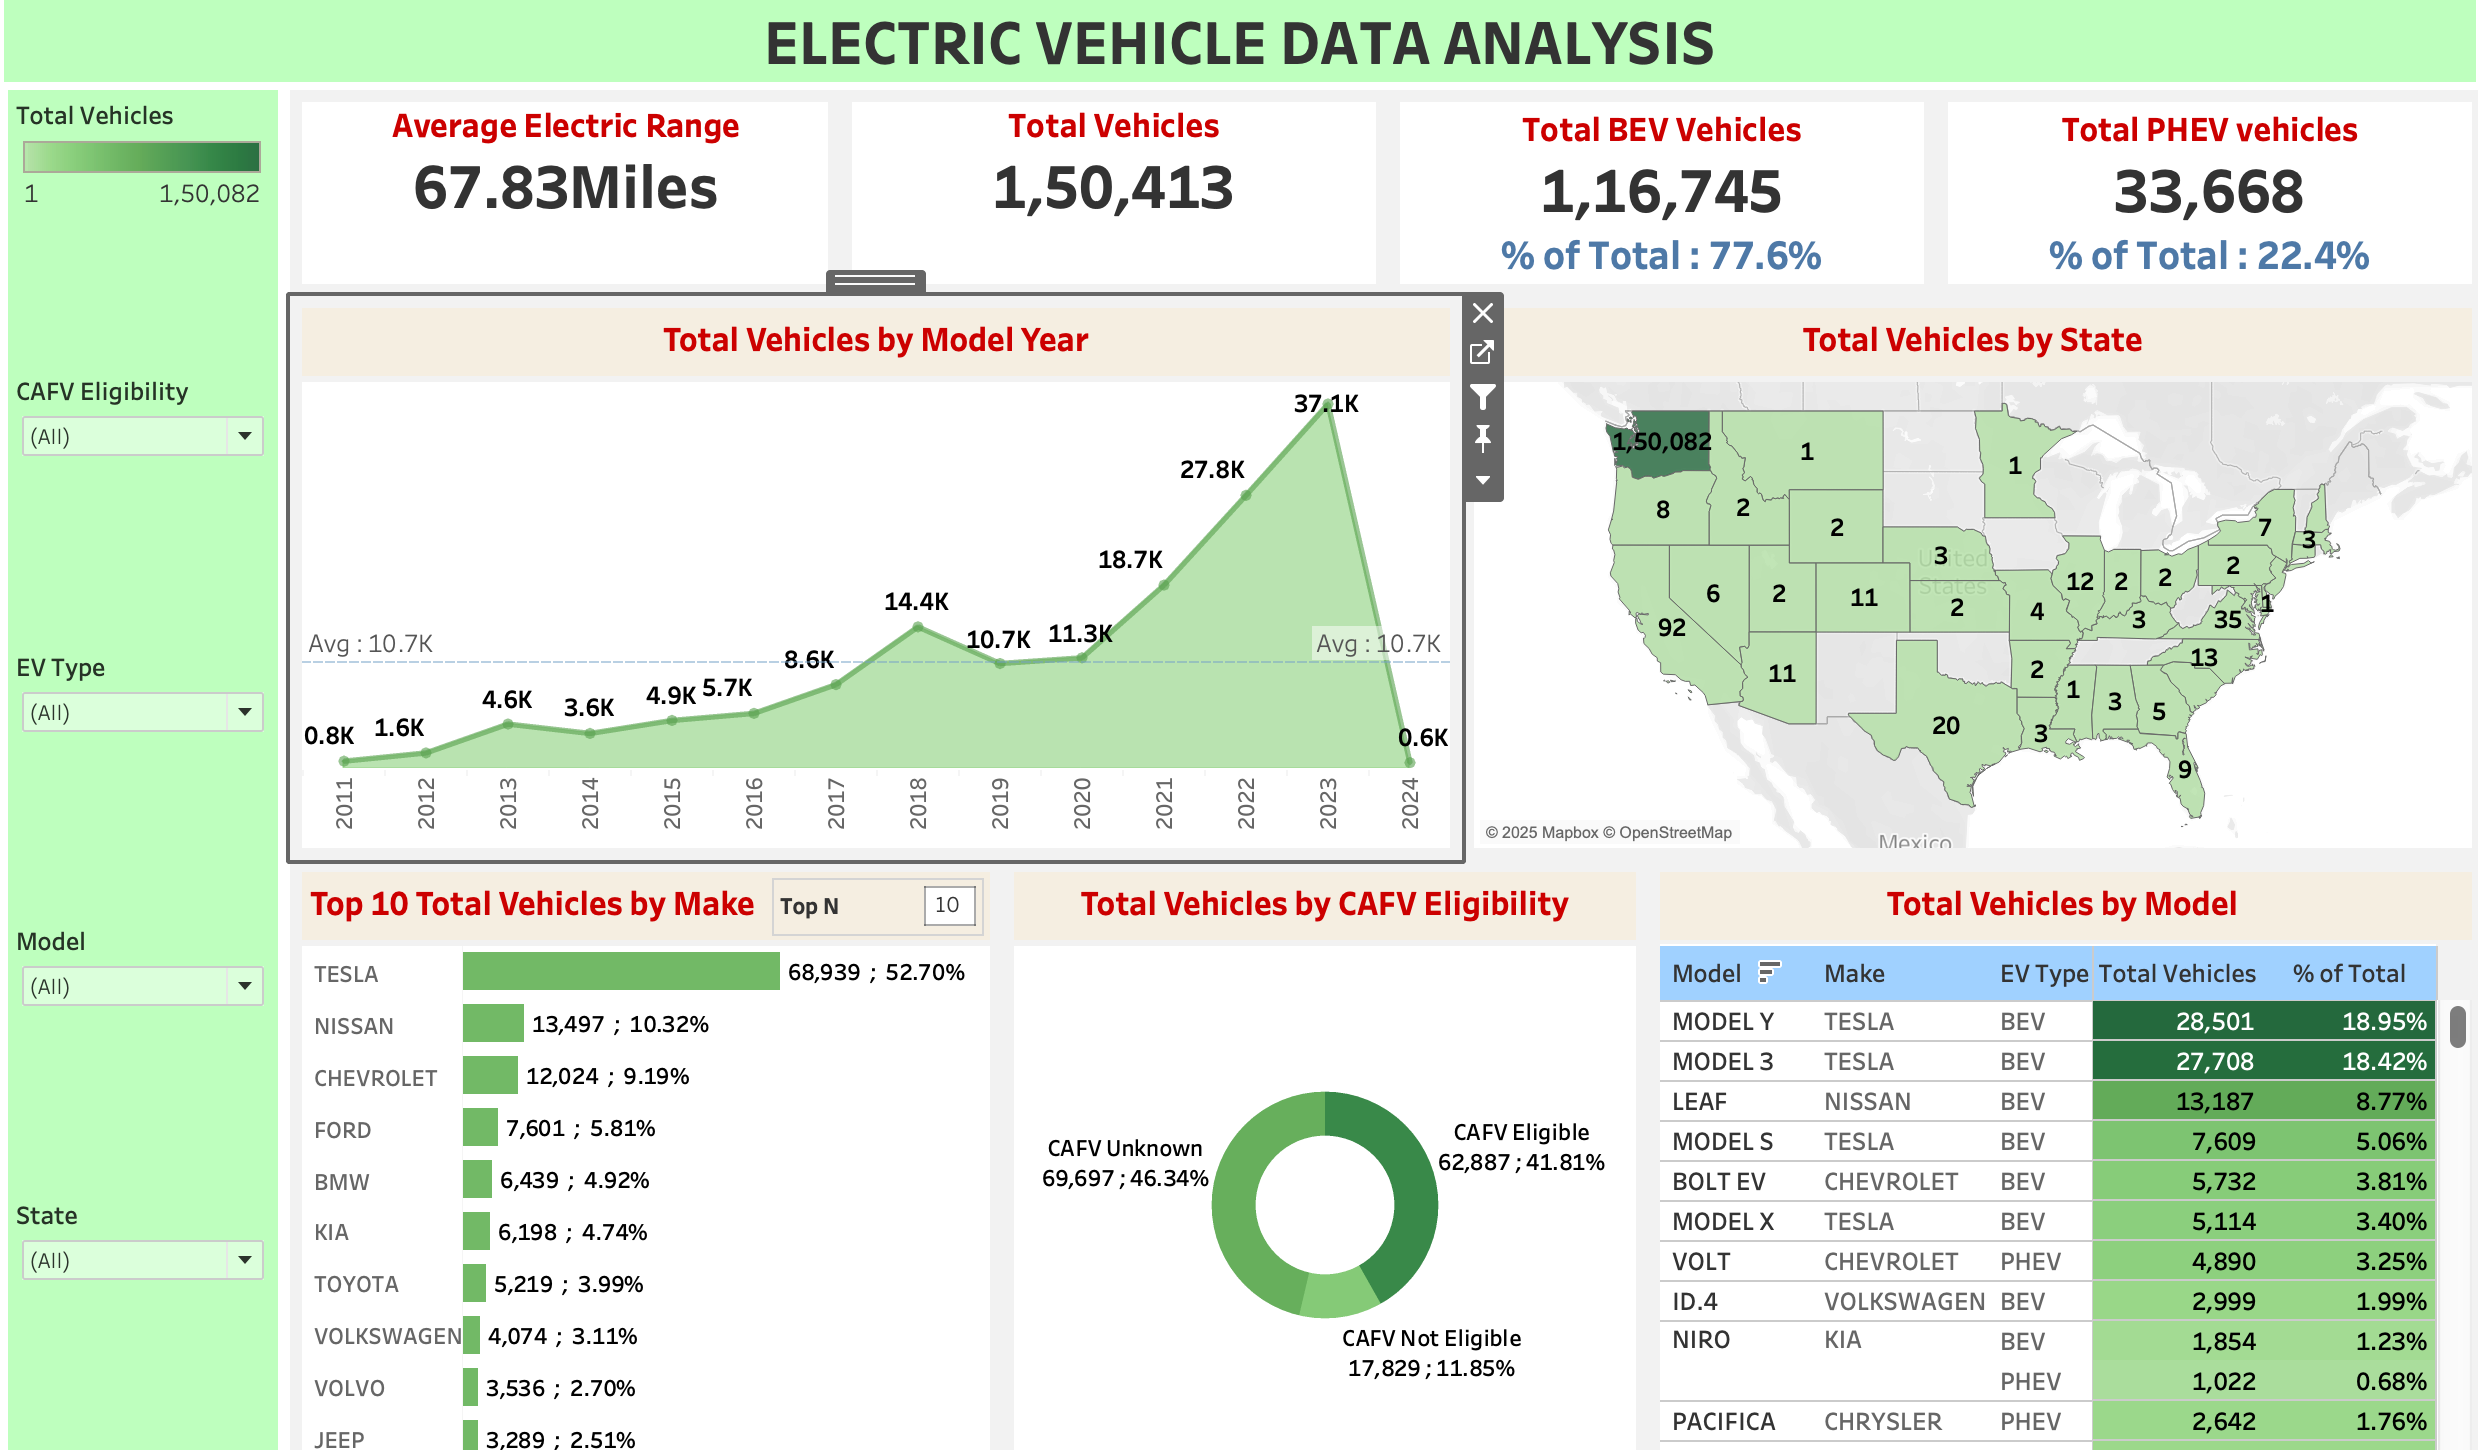

This screenshot's page, from the dashboard's own definition file:
{"tool":"tableau","page":{"name":"Dashboard 1","canvas":[1260,758],"ordinal":0},"visuals":[{"type":"title","box":[8,8,1244,49.3]},{"type":"legend","title":"Total Vehicles by State","param":"[federated.0ghng281872d7d1dj8w1f0wpl9qb].[usr:Calculation_599823175968665600:qk]","box":[14,57,135,138]},{"type":"worksheet","title":"Average Electric Range","mark":"Automatic","box":[155,57,275,103]},{"type":"worksheet","title":"Total Vehicles","mark":"Automatic","box":[430,57,274,103]},{"type":"worksheet","title":"Total BEV Vehicles","mark":"Automatic","box":[704,57,274,103]},{"type":"worksheet","title":"Total PHEV Vehicles","mark":"Automatic","box":[978,57,274,103]},{"type":"worksheet","title":"Total Vehicles by Model Year","mark":"Area","rows":["Calculation_599823175968665600","Calculation_599823175968665600"],"cols":["Model Year"],"box":[155,160.3,586,282]},{"type":"worksheet","title":"Total Vehicles by State","mark":"Multipolygon","box":[741,160.3,511,282]},{"type":"filter","title":"Total Vehicles by State","param":"[federated.0ghng281872d7d1dj8w1f0wpl9qb].[none:Clean Alternative Fuel Vehicle (C","box":[14,195,135,138]},{"type":"filter","title":"Total Vehicles by State","param":"[federated.0ghng281872d7d1dj8w1f0wpl9qb].[none:Electric Vehicle Type:nk]","box":[14,333,135,137]},{"type":"worksheet","title":"Top 10 Total Vehicles by Make","mark":"Automatic","rows":["Make"],"cols":["Calculation_599823175968665600"],"box":[155,442.3,356,307.7]},{"type":"worksheet","title":"Total Vehicles by CAFV Eligibility","mark":"Pie","rows":["Calculation_599823177030483979","Calculation_599823177030483979"],"box":[511,442.3,323,307.7]},{"type":"worksheet","title":"Total Vehicles by Model ","mark":"Square","rows":["Model","Make","Electric Vehicle Type"],"box":[834,442.3,418,307.7]},{"type":"parameter","param":"[Parameters].[Parameter 1]","box":[396,451,106,29]},{"type":"filter","title":"Total Vehicles by State","param":"[federated.0ghng281872d7d1dj8w1f0wpl9qb].[none:Model:nk]","box":[14,470,135,137]},{"type":"filter","title":"Total Vehicles by State","param":"[federated.0ghng281872d7d1dj8w1f0wpl9qb].[none:State:nk]","box":[14,607,135,137]}]}

Visuals, with their boxes in screenshot pixels (x1, y1, x2, y2), scaled from the page's 1260x758 canvas onto the 2478x1450 screenshot:
title: Rect(16, 15, 2462, 110)
"Total Vehicles by State" legend: Rect(28, 109, 293, 373)
"Average Electric Range" worksheet: Rect(305, 109, 846, 306)
"Total Vehicles" worksheet: Rect(846, 109, 1385, 306)
"Total BEV Vehicles" worksheet: Rect(1385, 109, 1923, 306)
"Total PHEV Vehicles" worksheet: Rect(1923, 109, 2462, 306)
"Total Vehicles by Model Year" worksheet (Area marks): Rect(305, 307, 1457, 846)
"Total Vehicles by State" worksheet (Multipolygon marks): Rect(1457, 307, 2462, 846)
"Total Vehicles by State" filter: Rect(28, 373, 293, 637)
"Total Vehicles by State" filter: Rect(28, 637, 293, 899)
"Top 10 Total Vehicles by Make" worksheet: Rect(305, 846, 1005, 1435)
"Total Vehicles by CAFV Eligibility" worksheet (Pie marks): Rect(1005, 846, 1640, 1435)
"Total Vehicles by Model " worksheet (Square marks): Rect(1640, 846, 2462, 1435)
parameter: Rect(779, 863, 987, 918)
"Total Vehicles by State" filter: Rect(28, 899, 293, 1161)
"Total Vehicles by State" filter: Rect(28, 1161, 293, 1423)
